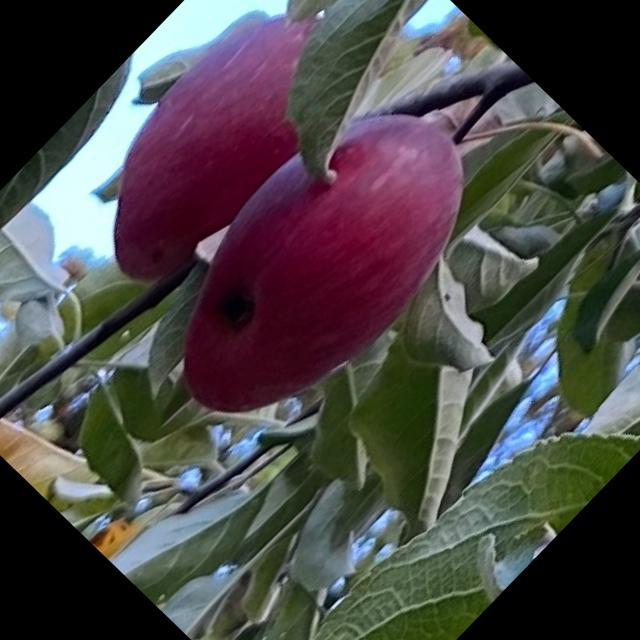100-_ripeness: (128, 68, 510, 456), (55, 0, 377, 303)
